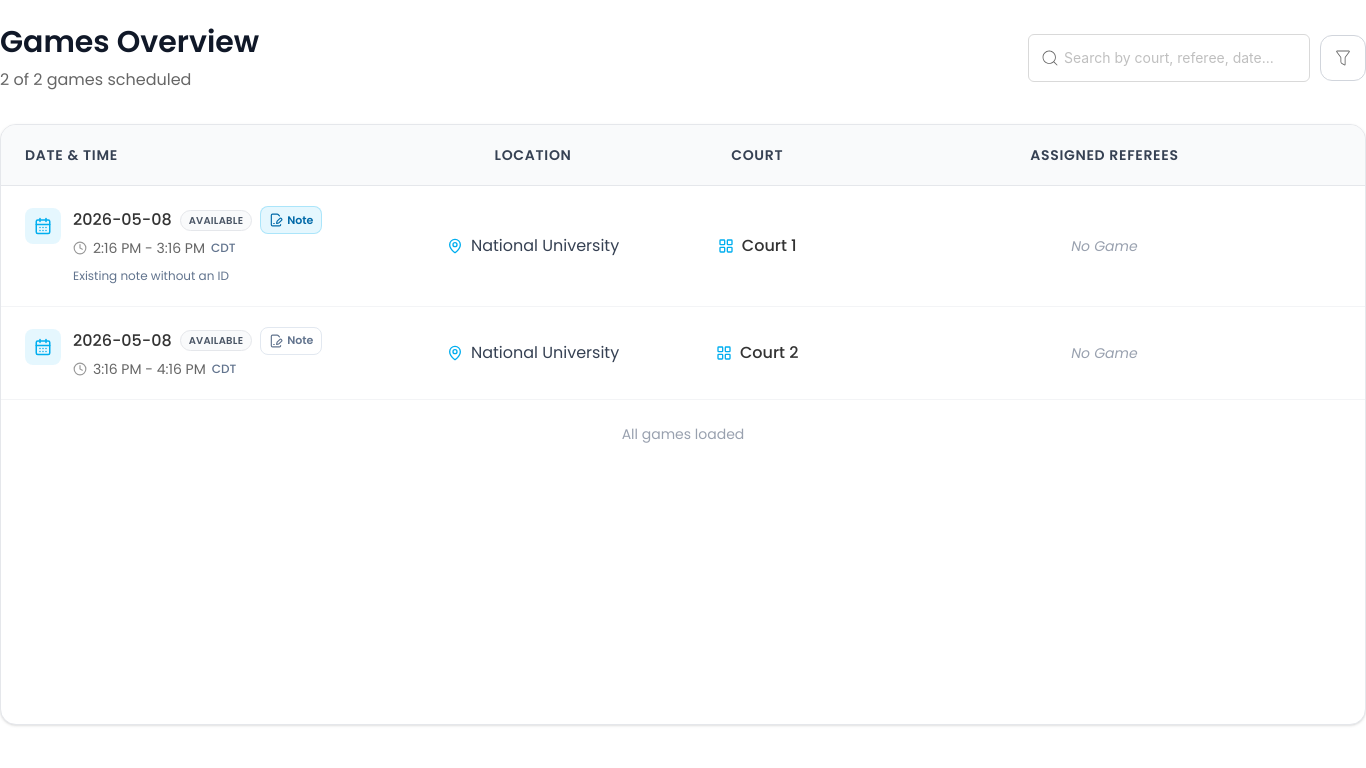
Test case: Evaluator game notes › does not create a duplicate when an existing note is missing its ID
What coordinates should you click on to do the following:
click the 1st button "Note"
I would click on:
 (291, 220)
Its box is [260, 206, 322, 234].
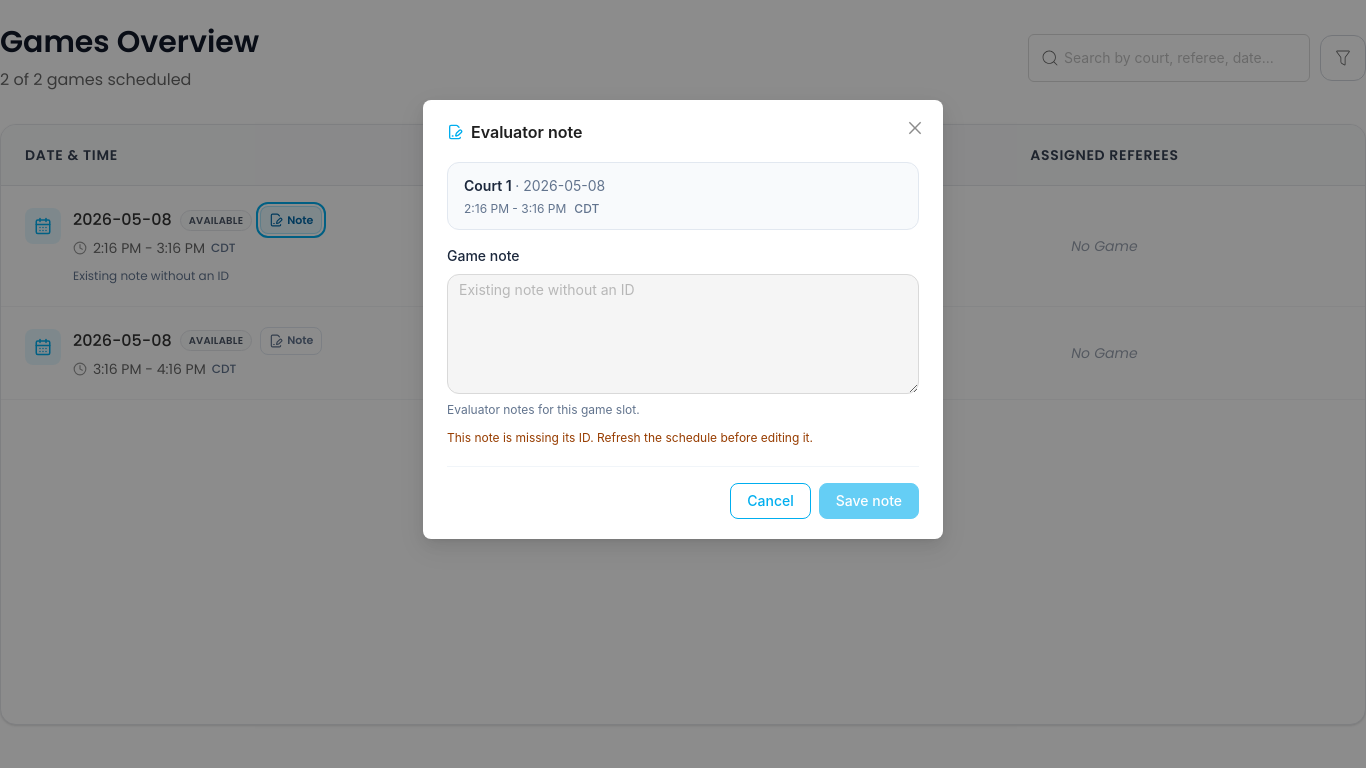
expect the message shows "missing its ID": met, box [447, 430, 813, 445]
expect the button "Save note" is disabled: met, box [819, 483, 919, 519]
